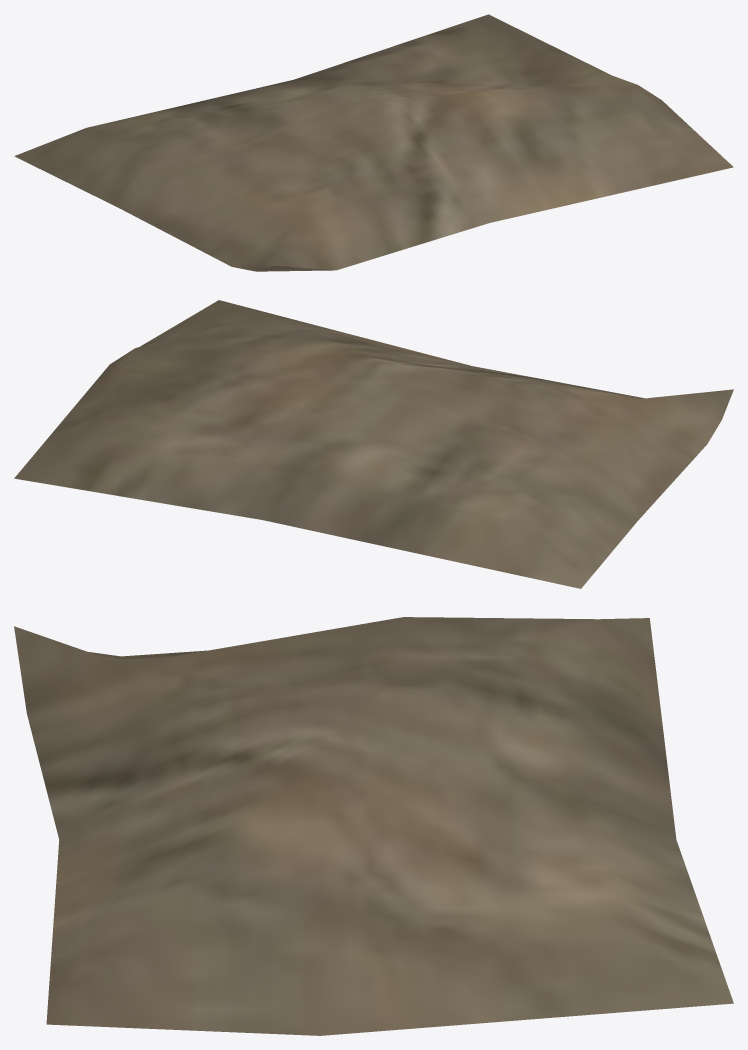
File: rag_high.fbx
3 renders of one model, top to bottom at view 1: azimuth 30°, elevation 25°; view 2: azimuth 150°, elevation 25°; view 3: azimuth 270°, elevation 25°, orthographic. The views are drawn at different scales.
Parts seen in each view (by area): view 1: rag_group; view 2: rag_group; view 3: rag_group.
Part boxes in pixels (<box>): rag_group: <box>14,14,733,271</box>; rag_group: <box>14,300,733,588</box>; rag_group: <box>14,617,733,1035</box>.
Bounding box in the file's own units: 68.18 × 7.66 × 49.64.
Materials: 1 (1 with a texture image).
